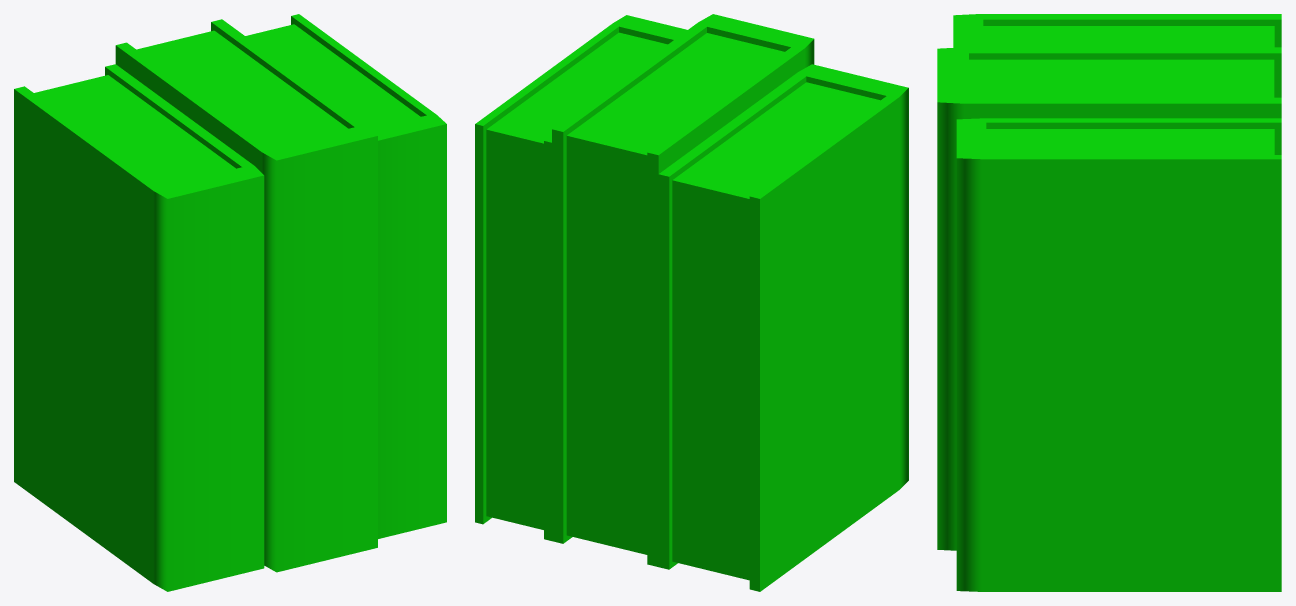
The model's file is BookSet_Small.fbx.
3 views of the same model, side by side, from view 1: azimuth 30°, elevation 25°; view 2: azimuth 150°, elevation 25°; view 3: azimuth 270°, elevation 25° (orthographic). The views are drawn at different scales.
Visible parts, largest first — view 1: BookSet_03; view 2: BookSet_03; view 3: BookSet_03.
Boxes of the visible parts, x1,y1,x2,y2 form: BookSet_03: (14,14,446,591); BookSet_03: (475,14,908,591); BookSet_03: (937,14,1281,591).
Bounding box in the file's own units: 5.85 × 8.08 × 5.63.
